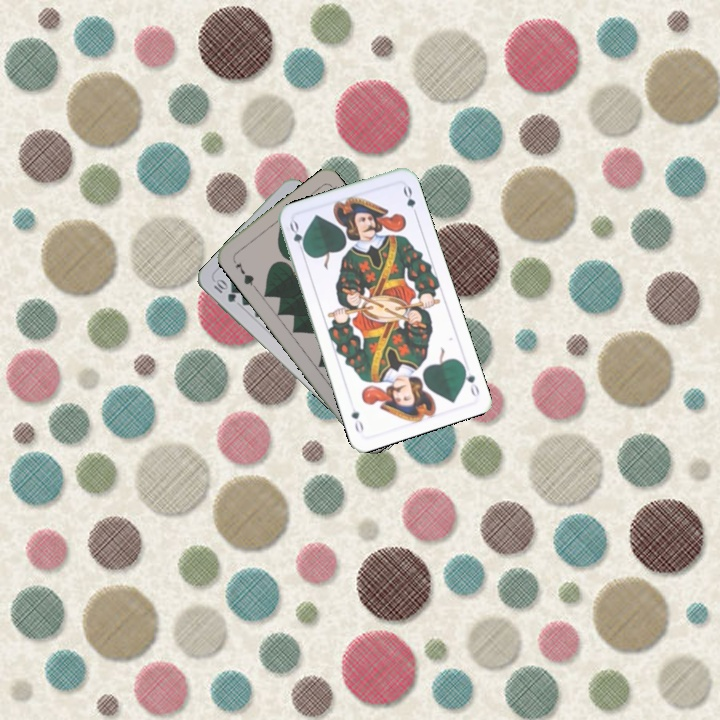G10: (209, 275, 239, 305)
G7: (231, 258, 258, 290)
GO: (285, 217, 310, 257), (458, 360, 482, 399)
